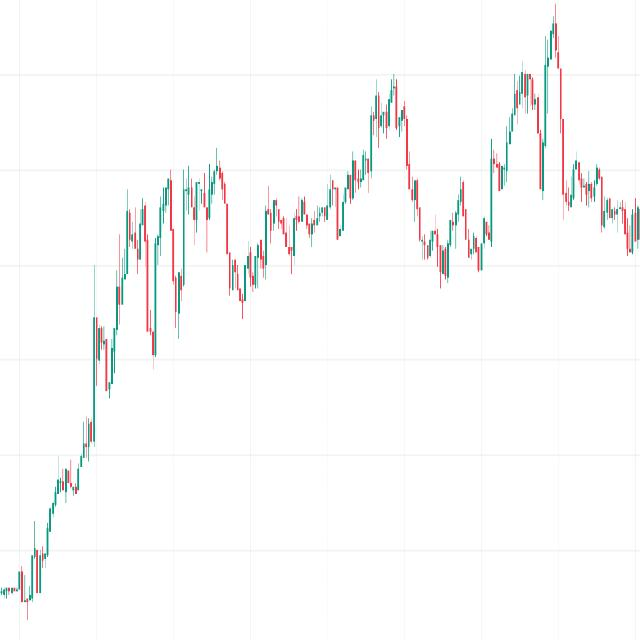Triple-Top: (178, 160, 231, 241)
